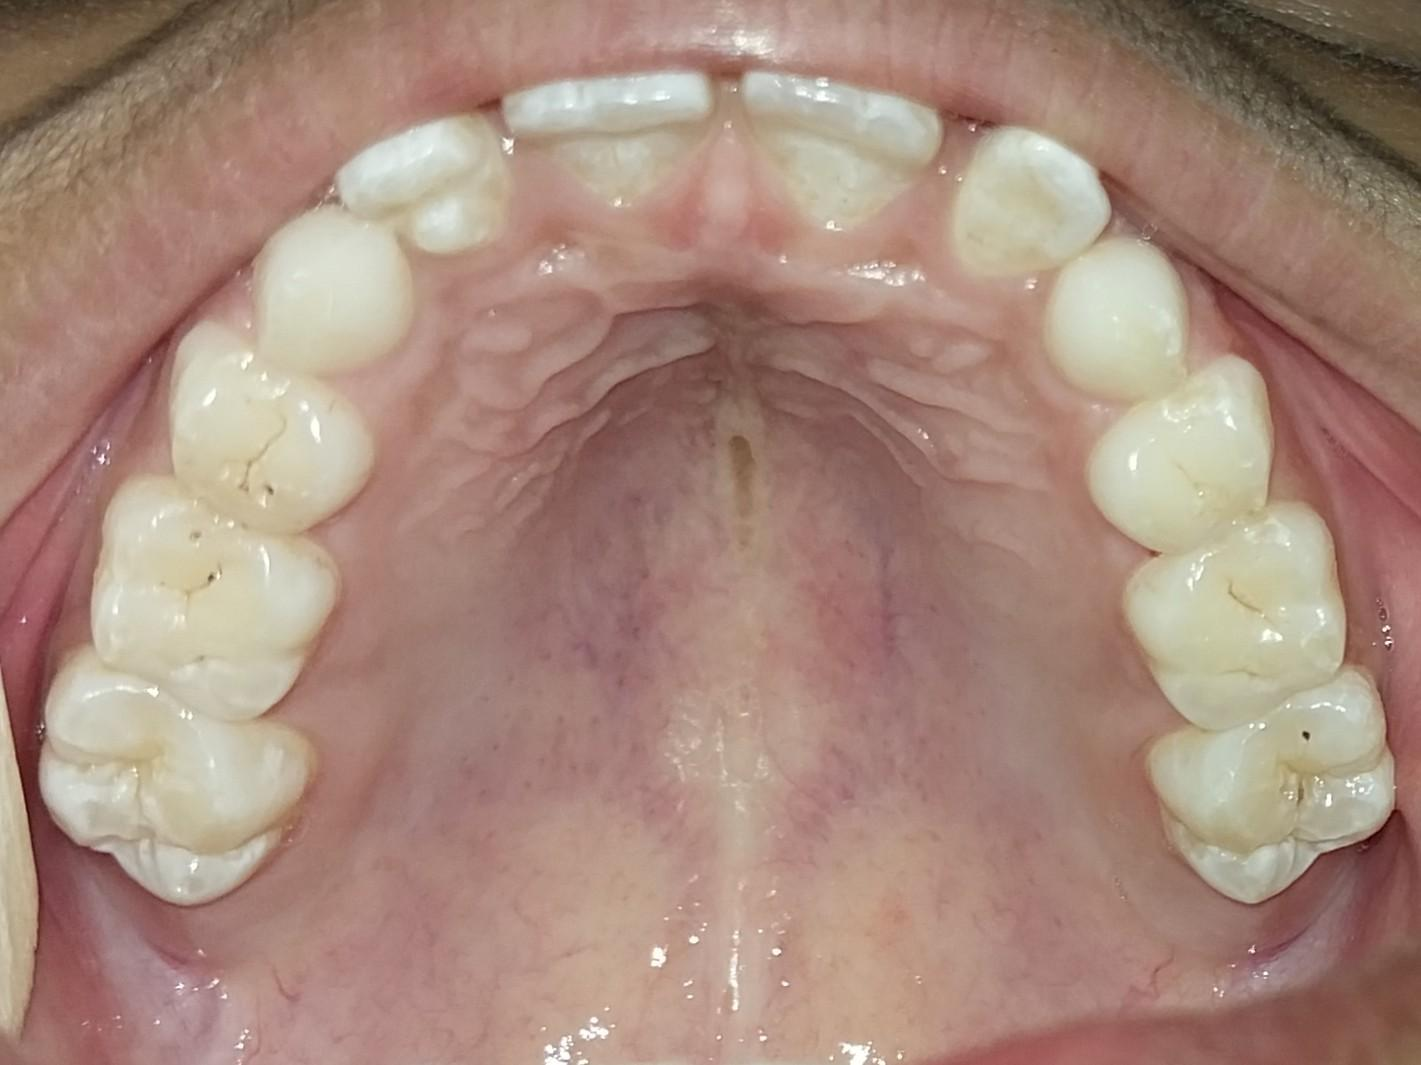d: (79, 490, 343, 716), (175, 365, 363, 527)
